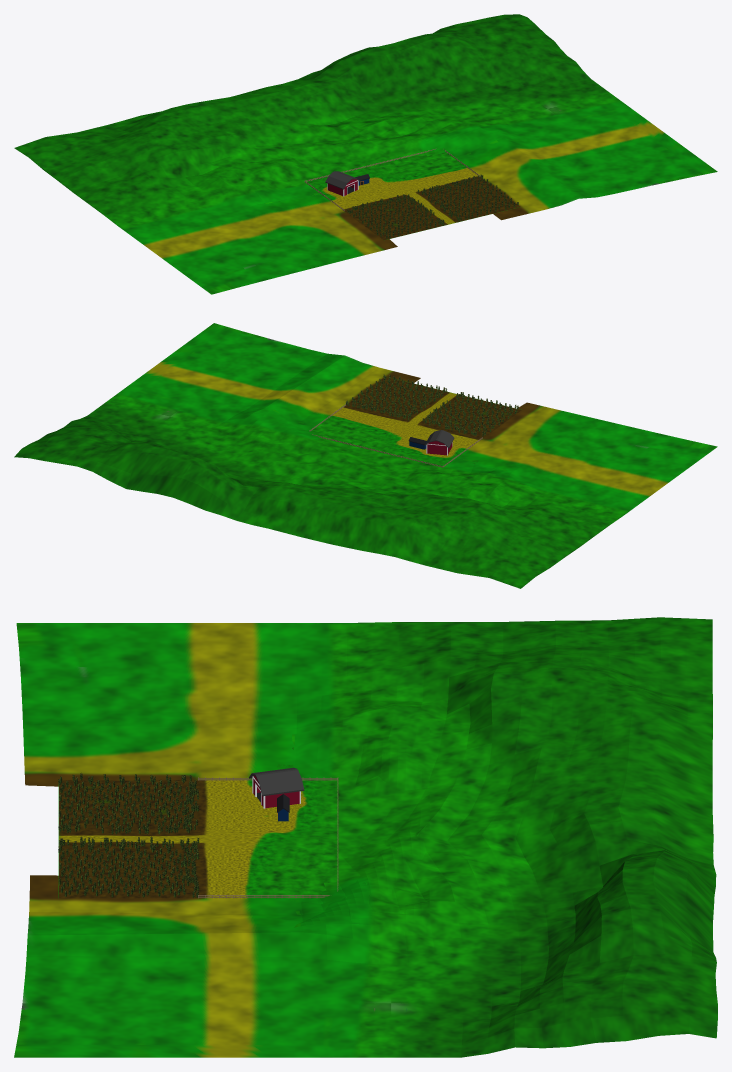
Rendered from Farmland_new.fbx.
3 views of the same model, one above another, from view 1: azimuth 30°, elevation 25°; view 2: azimuth 150°, elevation 25°; view 3: azimuth 270°, elevation 25° (orthographic). The views are drawn at different scales.
Visible parts, largest first — view 1: Landscape, Ground; view 2: Landscape, Ground; view 3: Landscape, Ground, Barn.
Boxes of the visible parts, bbox=[...] form: Landscape: bbox=[14, 14, 717, 294]; Ground: bbox=[305, 152, 520, 240]; Landscape: bbox=[14, 323, 717, 588]; Ground: bbox=[311, 377, 521, 467]; Landscape: bbox=[14, 617, 717, 1057]; Ground: bbox=[58, 780, 337, 898]; Barn: bbox=[249, 767, 304, 796].
Bounding box in the file's own units: 923 × 630 × 55.24.
